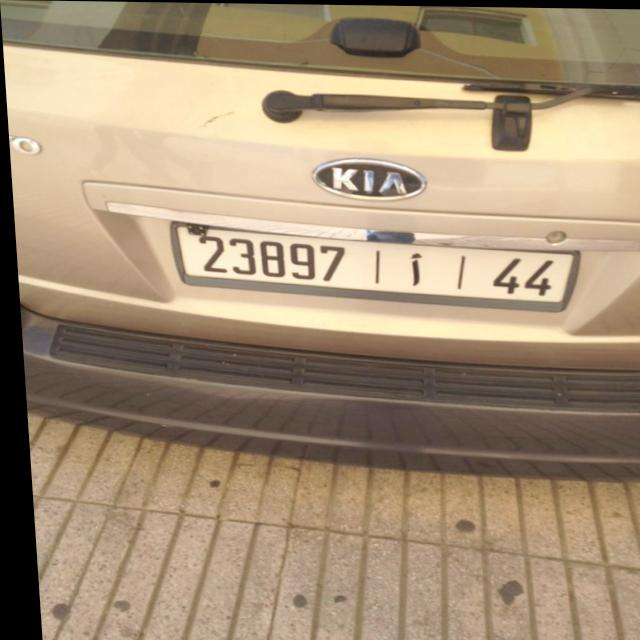License-Plate: (169, 223, 575, 308)
